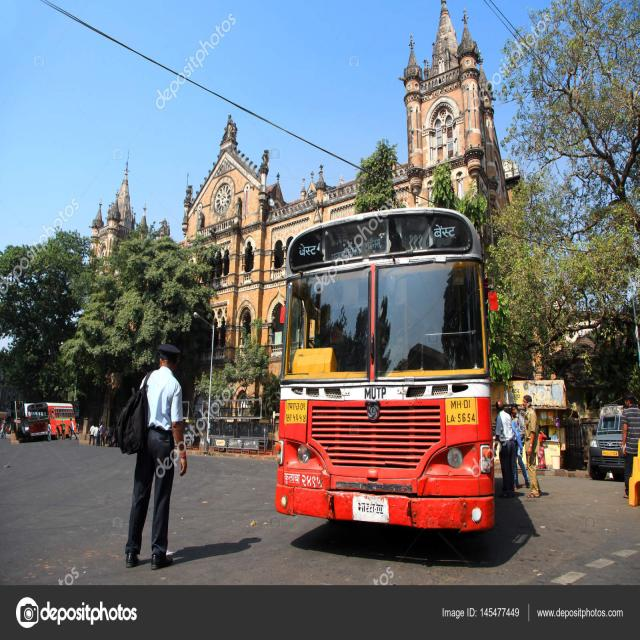bus: (273, 208, 499, 538), (272, 208, 497, 537), (11, 402, 79, 446)
truck: (589, 404, 640, 486)
